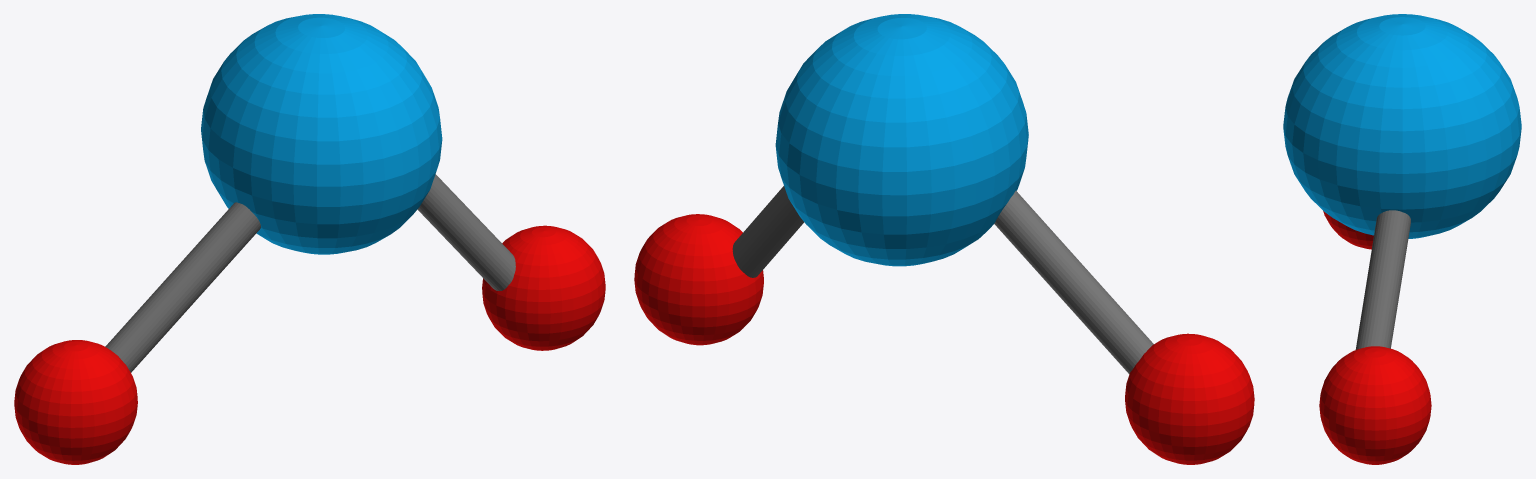
The picture shows the model from 3 angles, left to right: view 1: azimuth 30°, elevation 25°; view 2: azimuth 150°, elevation 25°; view 3: azimuth 270°, elevation 25°; orthographic projection. The views are drawn at different scales.
Parts seen in each view (by area): view 1: Sphere, Sphere.001, Sphere.002, Cylinder, Cylinder.001; view 2: Sphere, Sphere.001, Sphere.002, Cylinder, Cylinder.001; view 3: Sphere, Sphere.002, Cylinder.001, Sphere.001.
Boxes of the visible parts, <box> form: Sphere: <box>201,14,442,254</box>; Sphere.001: <box>14,340,137,464</box>; Sphere.002: <box>482,225,605,350</box>; Cylinder: <box>105,202,260,372</box>; Cylinder.001: <box>417,174,515,290</box>; Sphere: <box>775,14,1028,266</box>; Sphere.001: <box>1125,333,1254,464</box>; Sphere.002: <box>634,214,763,345</box>; Cylinder: <box>994,191,1153,374</box>; Cylinder.001: <box>732,186,804,277</box>; Sphere: <box>1283,14,1521,238</box>; Sphere.002: <box>1319,346,1431,464</box>; Cylinder.001: <box>1355,210,1410,349</box>; Sphere.001: <box>1323,211,1373,249</box>.
Bounding box in the file's own units: 6.33 × 3.78 × 2.41.
